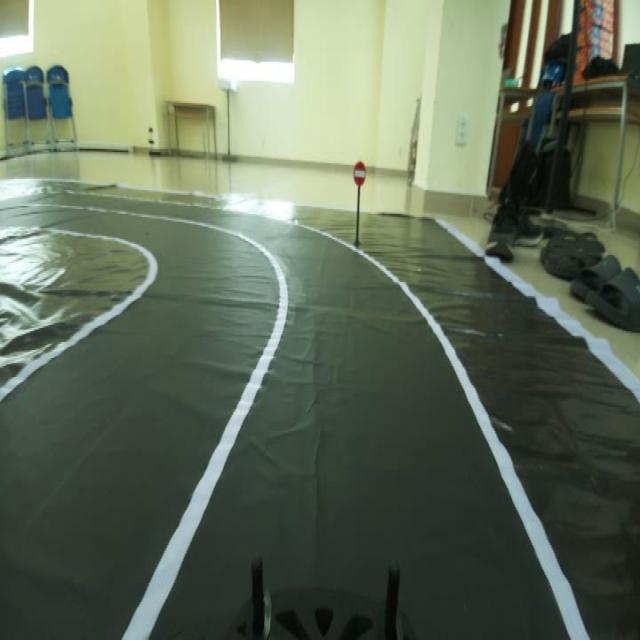no_entry: (348, 158, 373, 186)
